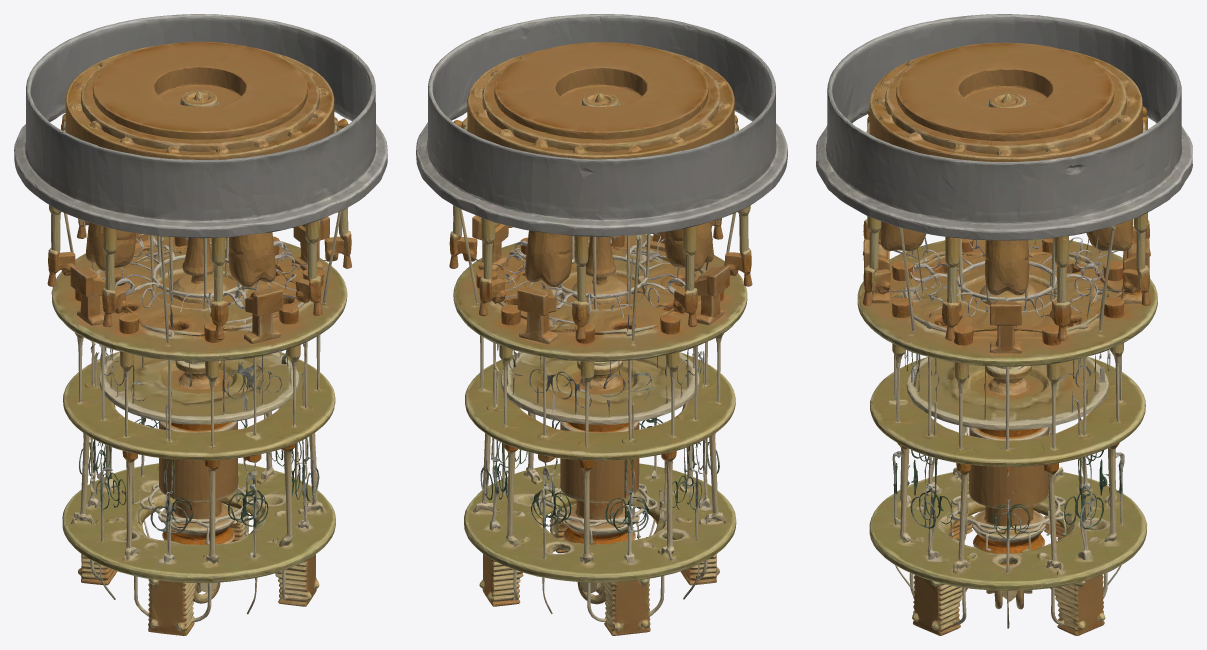
Rendered from quantum.glb.
3 views of the same model, side by side, from view 1: azimuth 30°, elevation 25°; view 2: azimuth 150°, elevation 25°; view 3: azimuth 270°, elevation 25° (orthographic).
Parts seen in each view (by area): view 1: tripo_node_70cccd7a-4a48-49c5-961f-2f2694b51268; view 2: tripo_node_70cccd7a-4a48-49c5-961f-2f2694b51268; view 3: tripo_node_70cccd7a-4a48-49c5-961f-2f2694b51268.
Part boxes in pixels (box(x1,y1,x2,y2)): tripo_node_70cccd7a-4a48-49c5-961f-2f2694b51268: box(14, 14, 387, 635); tripo_node_70cccd7a-4a48-49c5-961f-2f2694b51268: box(416, 14, 787, 635); tripo_node_70cccd7a-4a48-49c5-961f-2f2694b51268: box(816, 14, 1192, 635).
Bounding box in the file's own units: 0.6595 × 1 × 0.6578.
Materials: 1 (1 with a texture image).
